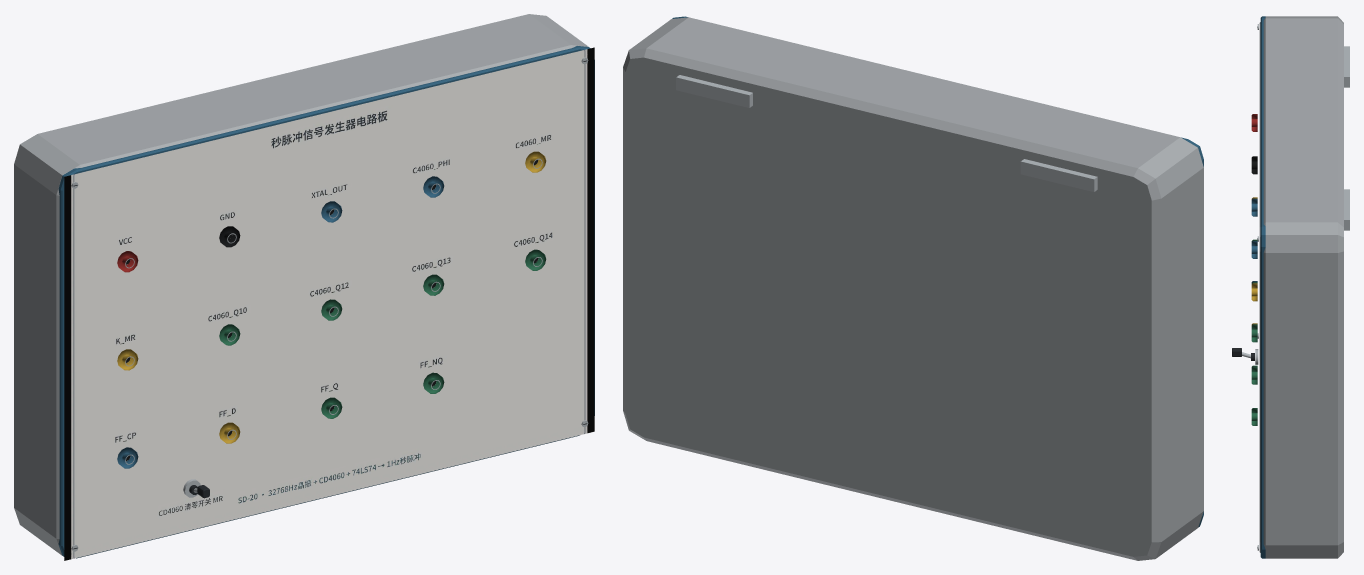
Rendered from module.glb.
3 views of the same model, side by side, from view 1: azimuth 30°, elevation 25°; view 2: azimuth 150°, elevation 25°; view 3: azimuth 270°, elevation 25° (orthographic). The views are drawn at different scales.
Visible parts, largest first — view 1: PANEL_silkscreen, STATIC_paint, STATIC_metal; view 2: STATIC_paint, STATIC_metal; view 3: STATIC_paint, STATIC_metal.
Boxes of the visible parts, x1=… form: PANEL_silkscreen: x1=64, y1=47, x2=594, y2=560; STATIC_paint: x1=14, y1=14, x2=594, y2=558; STATIC_metal: x1=71, y1=57, x2=588, y2=551; STATIC_paint: x1=623, y1=16, x2=1203, y2=560; STATIC_metal: x1=676, y1=75, x2=1097, y2=191; STATIC_paint: x1=1251, y1=16, x2=1343, y2=558; STATIC_metal: x1=1255, y1=24, x2=1349, y2=550.
Size of the model in its own units: 0.264 by 0.184 by 0.0588.
4 materials, 1 textured.
